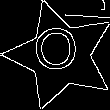O_S: (37, 29, 84, 81)
